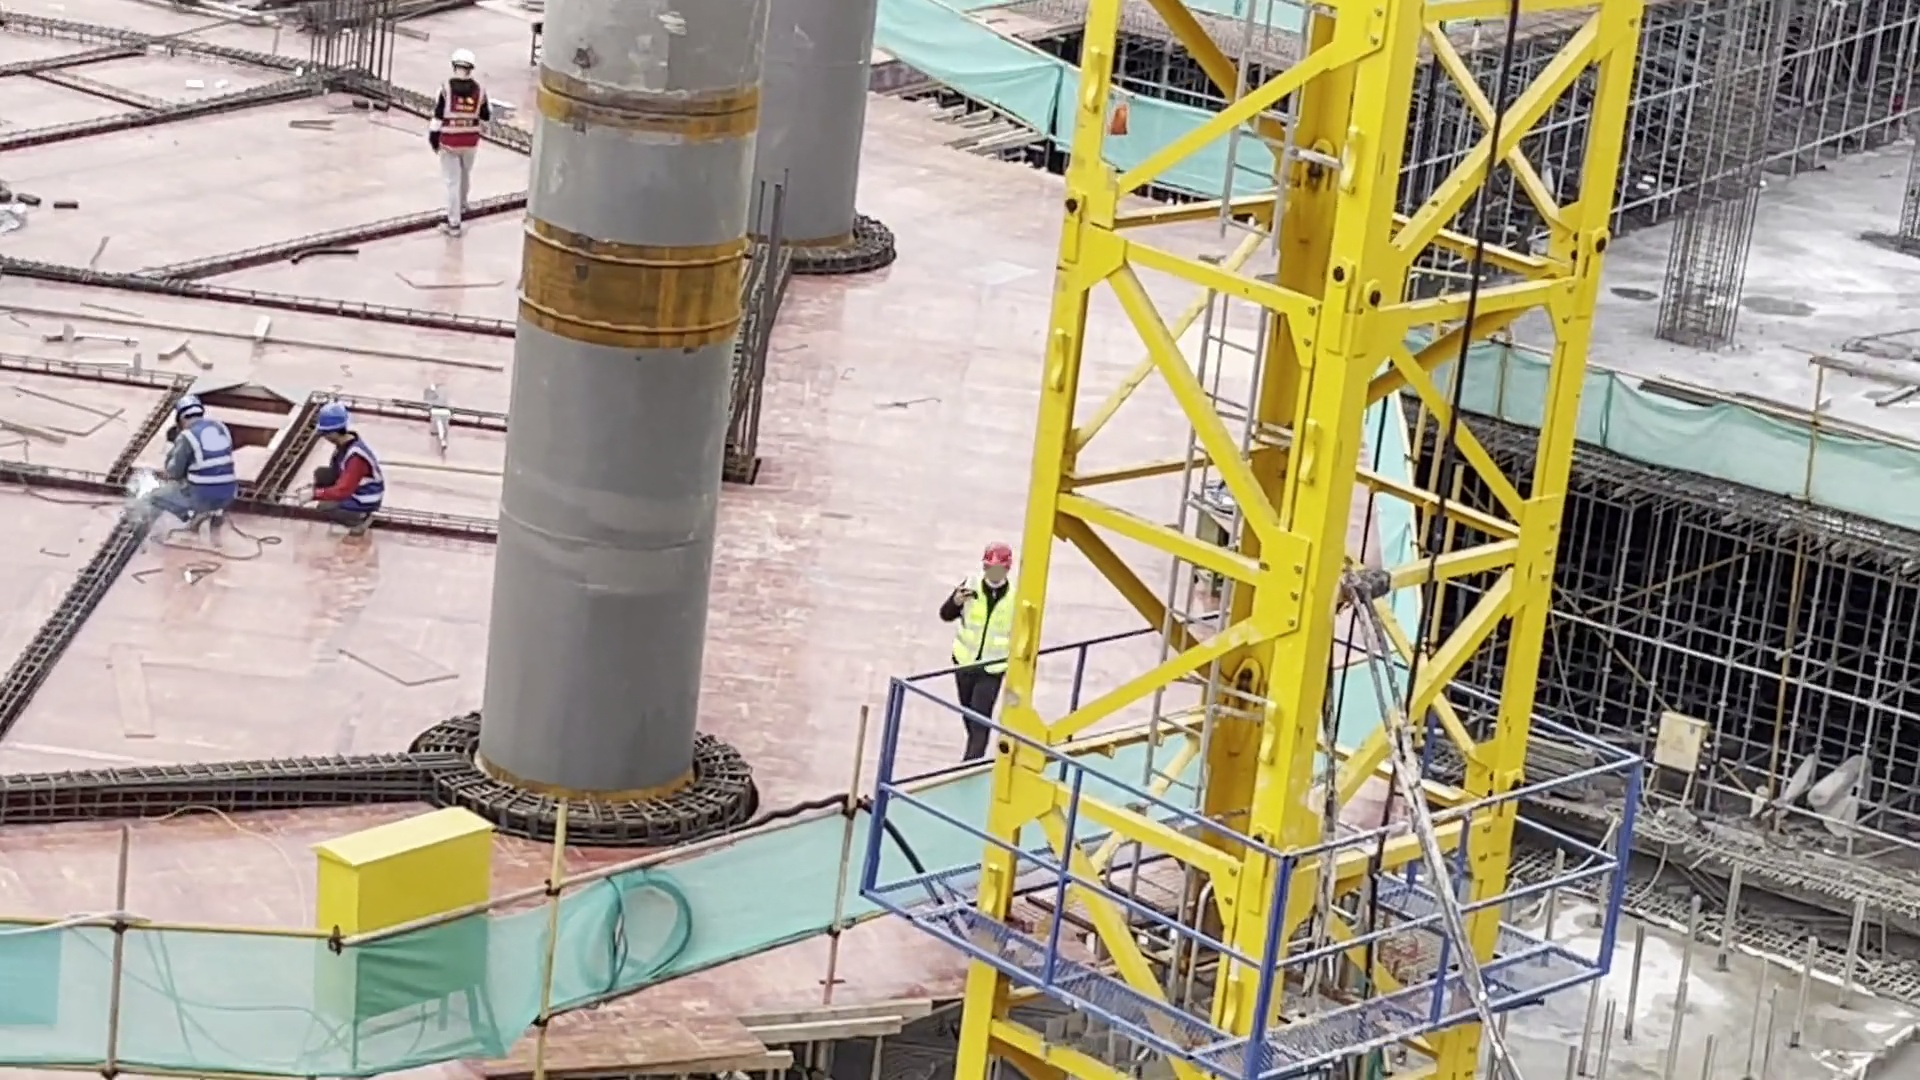ebox: (310, 801, 493, 1080)
person: (135, 386, 248, 539), (940, 541, 1013, 759), (289, 394, 389, 548), (428, 48, 491, 239)
vest: (1641, 708, 1712, 810), (951, 583, 1016, 681), (176, 420, 241, 505), (333, 440, 386, 513), (440, 77, 485, 150), (316, 402, 351, 431), (173, 391, 204, 421), (981, 539, 1012, 568)
